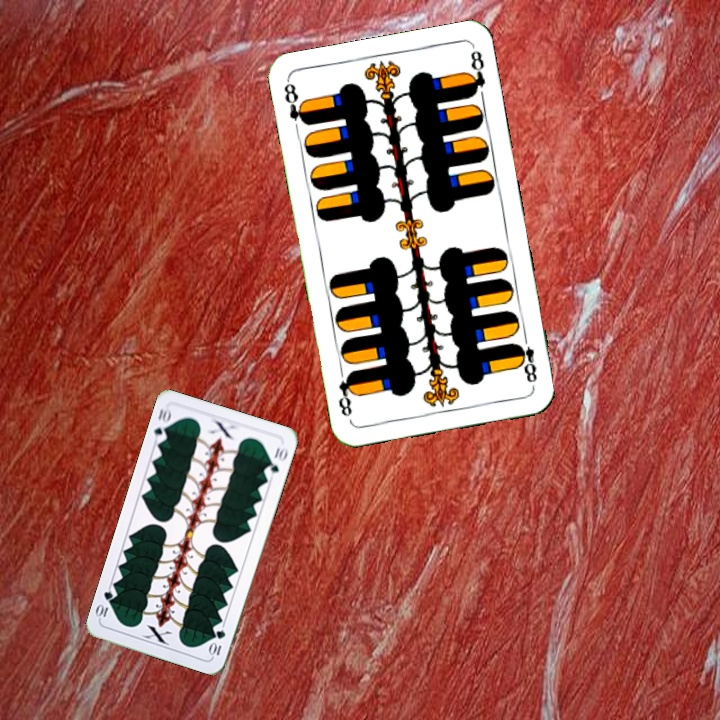E8: (279, 78, 311, 128), (512, 330, 540, 385)
G10: (150, 404, 174, 445), (206, 626, 228, 659)
